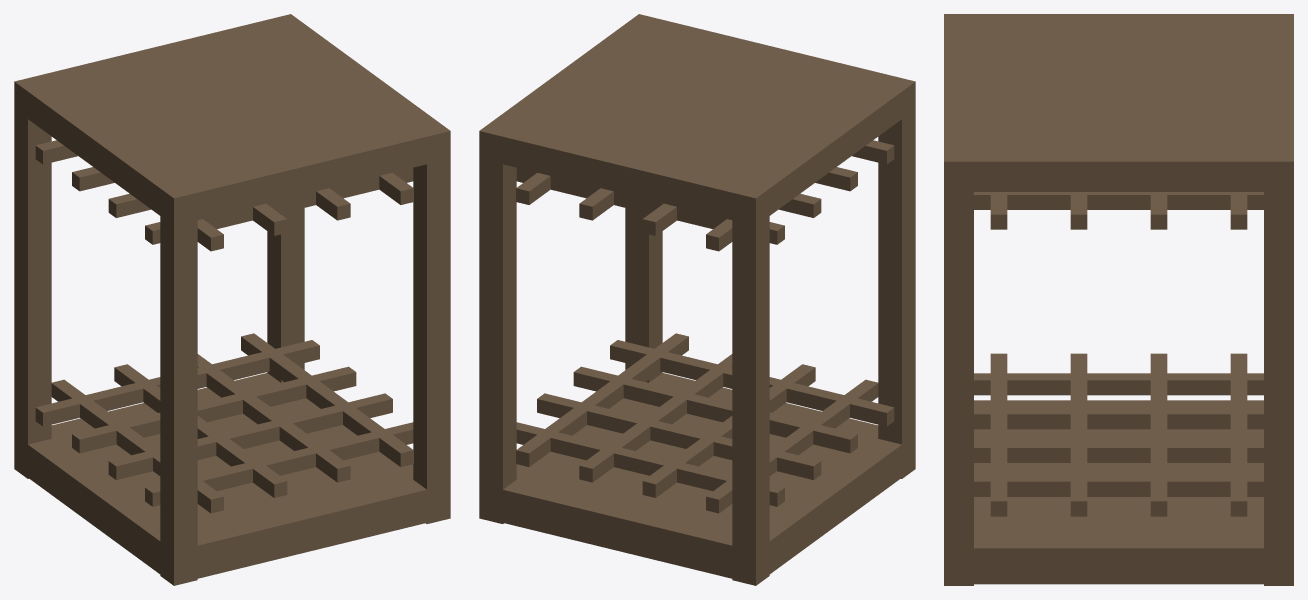
The model's file is cage.glb.
The picture shows the model from 3 angles, left to right: view 1: azimuth 30°, elevation 25°; view 2: azimuth 150°, elevation 25°; view 3: azimuth 270°, elevation 25°; orthographic projection. The views are drawn at different scales.
Visible parts, largest first — view 1: cage; view 2: cage; view 3: cage.
Part boxes in pixels (x1,y1,x2,y2): cage: (14, 14, 450, 585); cage: (479, 14, 915, 585); cage: (944, 14, 1293, 585).
Size of the model in its own units: 1.05 by 1.4 by 1.05.
